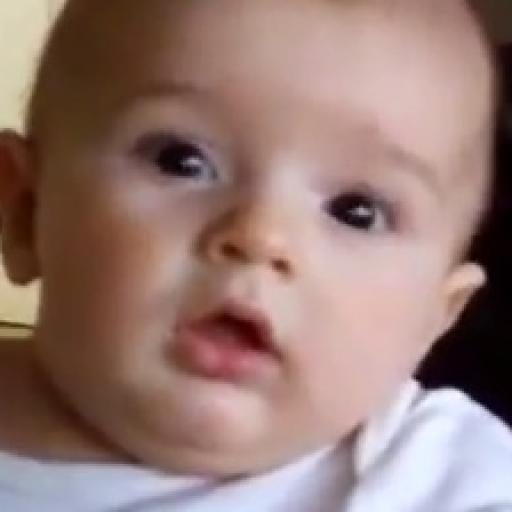Autism: (30, 2, 500, 476)
